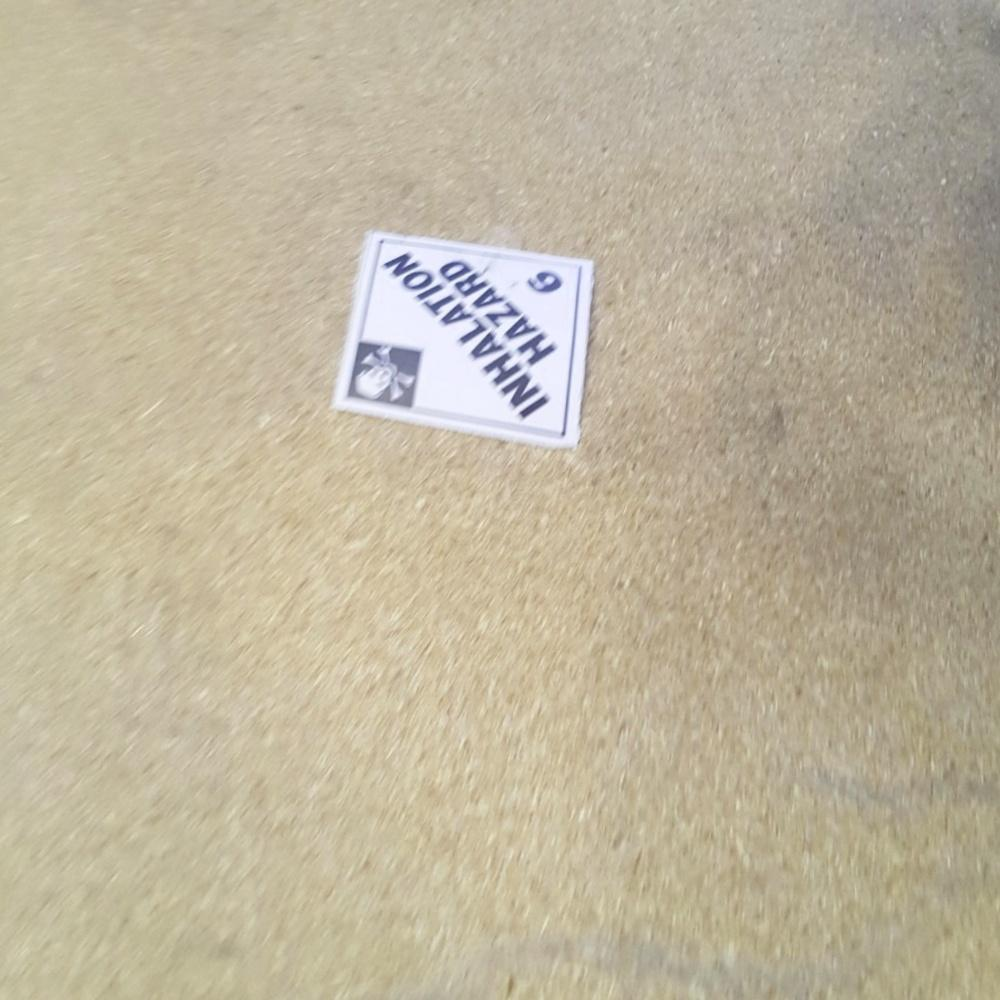poison: (327, 225, 595, 450)
